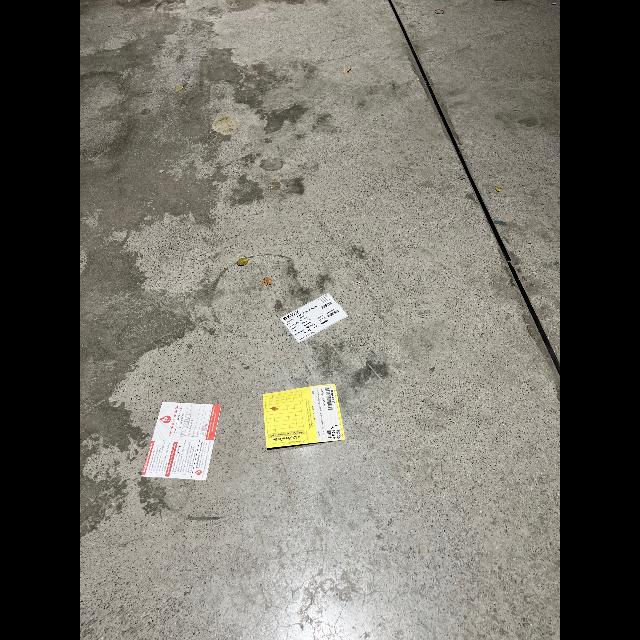scrap_paper: (138, 392, 226, 486), (252, 386, 350, 454), (269, 290, 351, 344)
